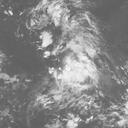cyclone: (54, 36, 97, 97)
